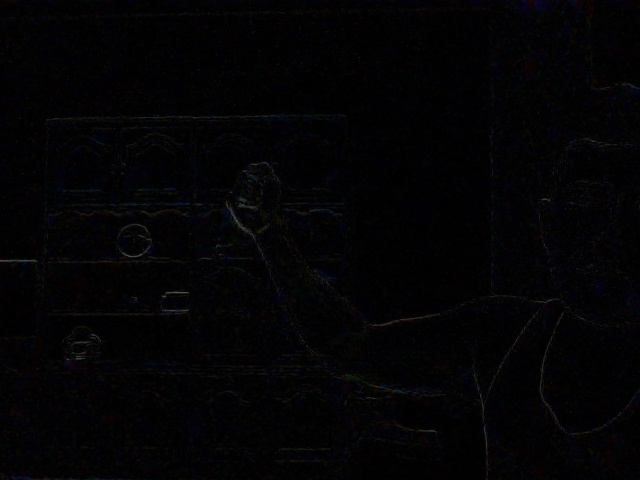hand_fi: (210, 146, 302, 244)
